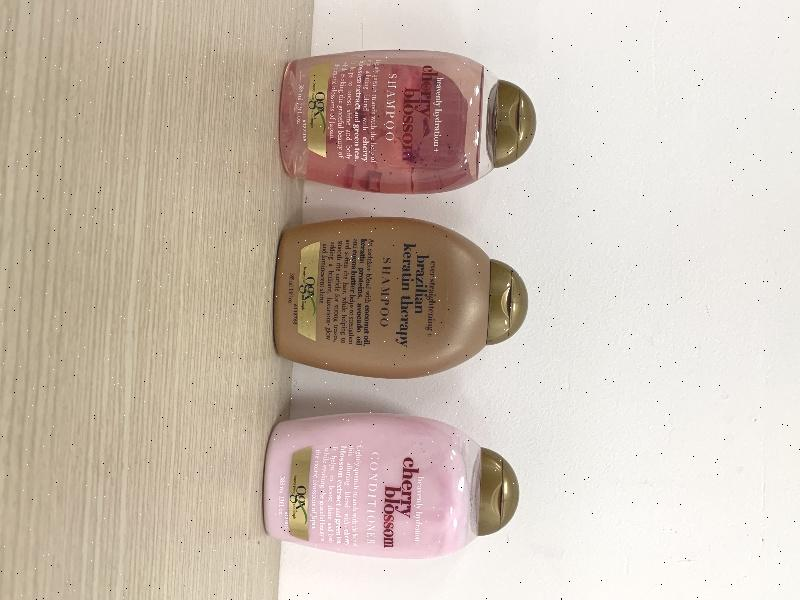BrazilianKeratinTherapy_Shampoo: (273, 217, 528, 379)
CherryBlossom_Conditioner: (264, 413, 519, 560)
CherryBlossom_Shampoo: (278, 49, 536, 195)
